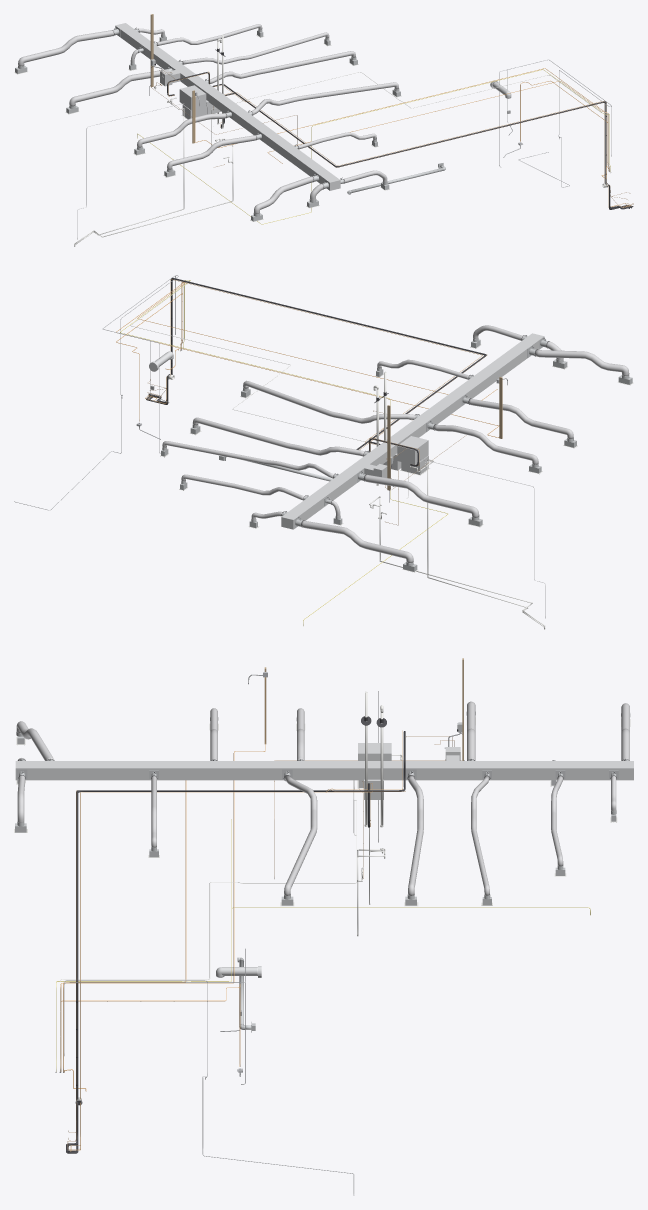
Rendered from pipes_hvac.glb.
3 renders of one model, top to bottom at view 1: azimuth 30°, elevation 25°; view 2: azimuth 150°, elevation 25°; view 3: azimuth 270°, elevation 25°, orthographic. The views are drawn at different scales.
Parts seen in each view (by area): view 1: duct_hvac_supply_trunk, flex_hvac_master_1, flex_hvac_master_2, flex_hvac_bed2_1, flex_hvac_master_closet_1, flex_hvac_bed3_1, flex_hvac_kitchen_1, flex_hvac_kitchen_2, cable_sump_feed, pipe_hvac_lineset_suction_hp_ra14ay36, duct_return_ahu_box, flex_hvac_master_bath_1 (+9 smaller); view 2: duct_hvac_supply_trunk, flex_hvac_master_2, flex_hvac_master_1, flex_hvac_bed3_1, flex_hvac_bed2_1, flex_hvac_master_closet_1, pipe_hvac_lineset_suction_hp_ra14ay36, flex_hvac_kitchen_2, flex_hvac_living_1, flex_hvac_kitchen_1, duct_return_ahu_box, flex_hvac_master_bath_1 (+5 smaller); view 3: duct_hvac_supply_trunk, flex_hvac_master_1, pipe_hvac_lineset_suction_hp_rd16ay36, flex_hvac_master_2, cable_wh_attic_feed, pipe_hvac_lineset_suction_hp_ra14ay36, cable_sump_feed, cable_hvac_furnace_feed, flex_hvac_master_closet_1.
Part boxes in pixels (bbox=[...]): duct_hvac_supply_trunk: bbox=[115, 23, 340, 190]; flex_hvac_master_1: bbox=[250, 82, 398, 115]; flex_hvac_master_2: bbox=[208, 51, 355, 83]; flex_hvac_bed2_1: bbox=[18, 30, 114, 66]; flex_hvac_master_closet_1: bbox=[182, 32, 329, 64]; flex_hvac_bed3_1: bbox=[69, 69, 165, 106]; flex_hvac_kitchen_1: bbox=[167, 135, 257, 169]; flex_hvac_kitchen_2: bbox=[137, 113, 227, 147]; cable_sump_feed: bbox=[137, 69, 610, 224]; pipe_hvac_lineset_suction_hp_ra14ay36: bbox=[167, 72, 633, 208]; duct_return_ahu_box: bbox=[179, 85, 206, 110]; flex_hvac_master_bath_1: bbox=[156, 24, 262, 45]; duct_hvac_supply_trunk: bbox=[281, 333, 543, 529]; flex_hvac_master_2: bbox=[192, 417, 365, 456]; flex_hvac_master_1: bbox=[243, 380, 415, 423]; flex_hvac_bed3_1: bbox=[363, 474, 479, 517]; flex_hvac_bed2_1: bbox=[301, 520, 413, 562]; flex_hvac_master_closet_1: bbox=[162, 441, 335, 478]; pipe_hvac_lineset_suction_hp_ra14ay36: bbox=[148, 279, 484, 466]; flex_hvac_kitchen_2: bbox=[433, 424, 538, 464]; flex_hvac_living_1: bbox=[534, 349, 629, 375]; flex_hvac_kitchen_1: bbox=[468, 398, 573, 438]; duct_return_ahu_box: bbox=[397, 436, 428, 464]; flex_hvac_master_bath_1: bbox=[181, 474, 305, 500]; duct_hvac_supply_trunk: bbox=[15, 761, 633, 780]; flex_hvac_master_1: bbox=[284, 775, 317, 895]; pipe_hvac_lineset_suction_hp_rd16ay36: bbox=[68, 731, 405, 1151]; flex_hvac_master_2: bbox=[408, 775, 423, 895]; cable_wh_attic_feed: bbox=[60, 677, 265, 1071]; pipe_hvac_lineset_suction_hp_ra14ay36: bbox=[66, 731, 405, 1152]; cable_sump_feed: bbox=[56, 819, 590, 1071]; cable_hvac_furnace_feed: bbox=[60, 780, 356, 1071]; flex_hvac_master_closet_1: bbox=[471, 776, 489, 895].
Bounding box in the file's own units: 17.66 × 7.18 × 14.19.
